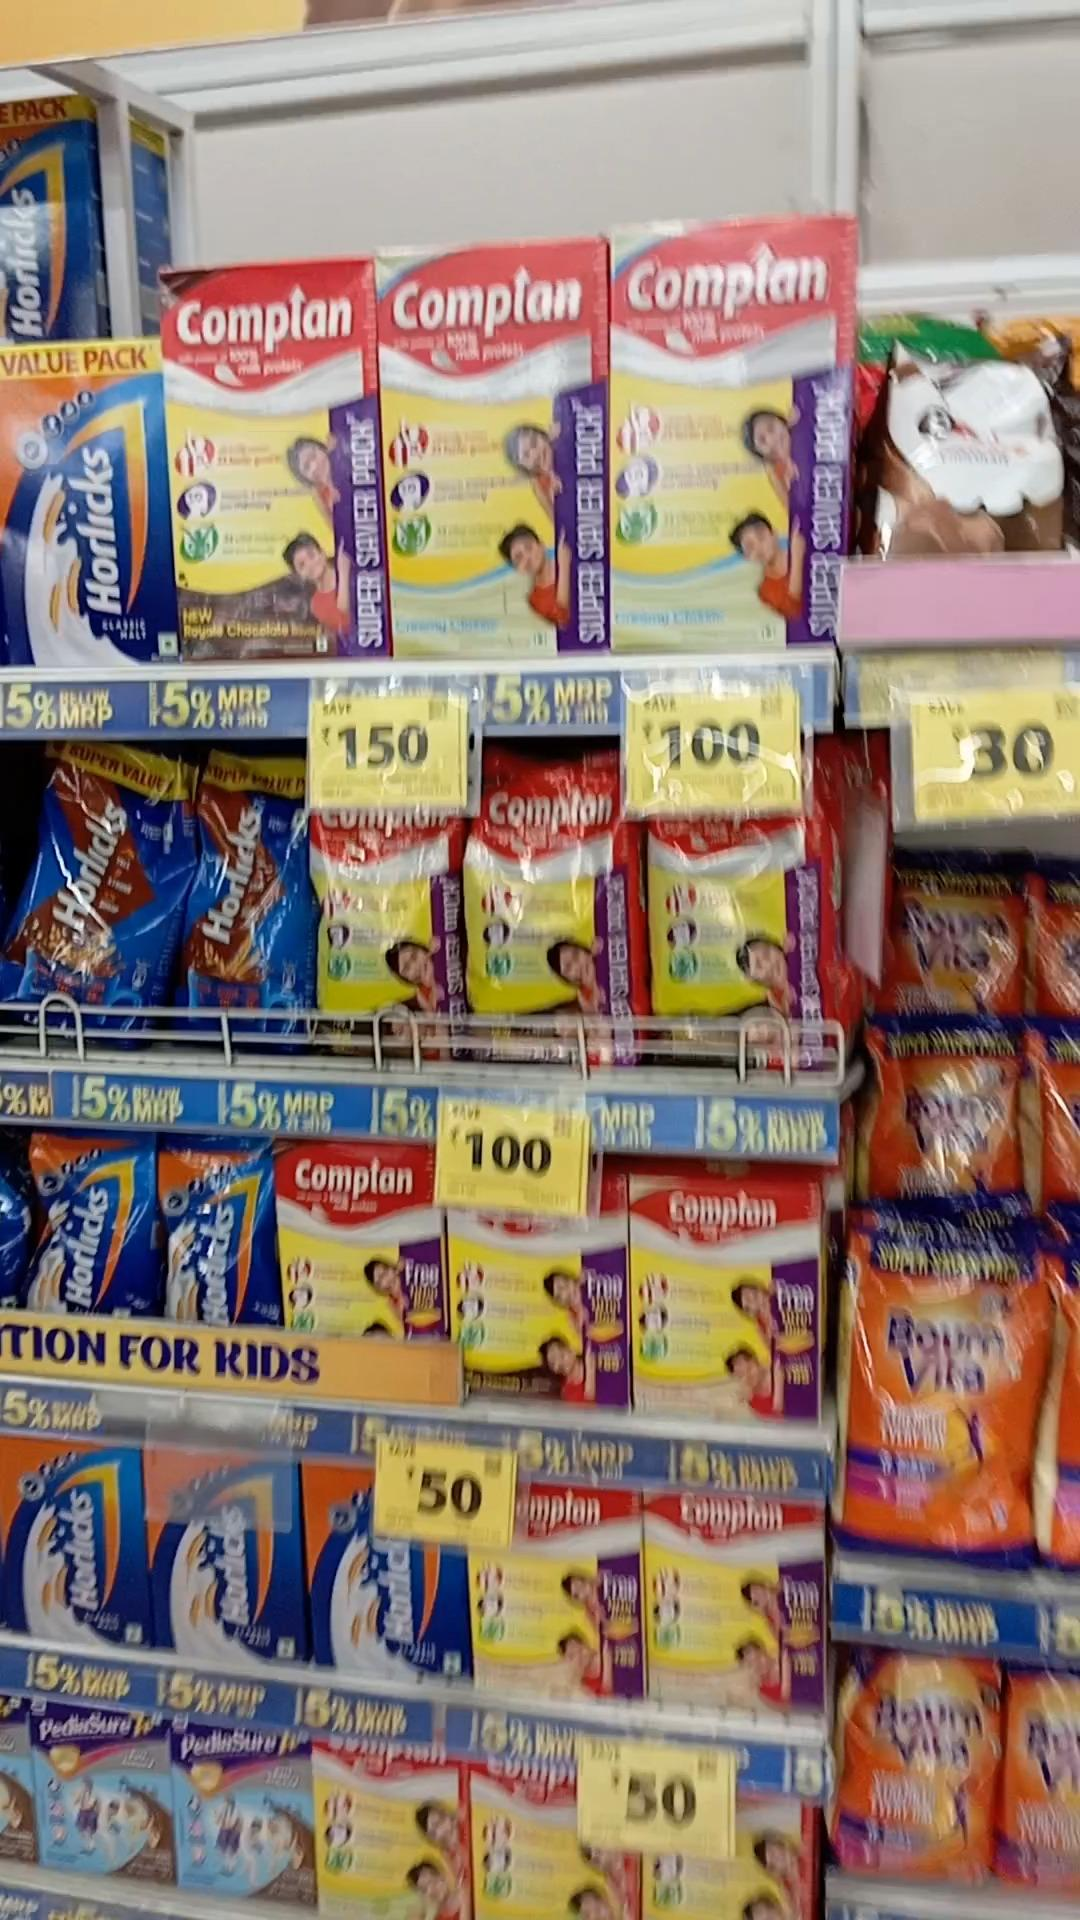BOURN_VITA_1_KG_POUCH: (853, 1236, 1039, 1556)
BOURN_VITA_500_G_POUCH: (836, 1650, 986, 1876)
COMPLAN_CHOCOLATE_1_KG_PACK: (181, 264, 380, 651)
COMPLAN_CHOCOLATE_500_GMS_PACK: (454, 1200, 621, 1407), (280, 1137, 439, 1331)
COMPLAN_KESAR_BADAM_500_GMS_PACK: (636, 1170, 820, 1415), (637, 1489, 816, 1712), (476, 1486, 641, 1702)
COMPLAN_PISTA_BADAM_500_GMS_PACK: (309, 1737, 469, 1913)
COMPLAN_RC_POUCH_700_GMS_12: (468, 752, 644, 1060), (650, 814, 825, 1069), (310, 810, 462, 1054)
HORLICK_CHOCOLATE_750_G_POUCH: (30, 738, 170, 1036), (179, 746, 307, 1051)
HORLICK_CLASSIC_MALT_500_G_PACK: (306, 1449, 462, 1671), (152, 1445, 301, 1660), (0, 1439, 148, 1640)
HORLICK_CLASSIC_MALT_750_G_POUCH: (21, 1125, 148, 1320), (153, 1141, 270, 1317)
PEDIASURE_7_PLUS_CHOCOLATE_400_G_PACK: (175, 1724, 306, 1899), (37, 1712, 173, 1879)
